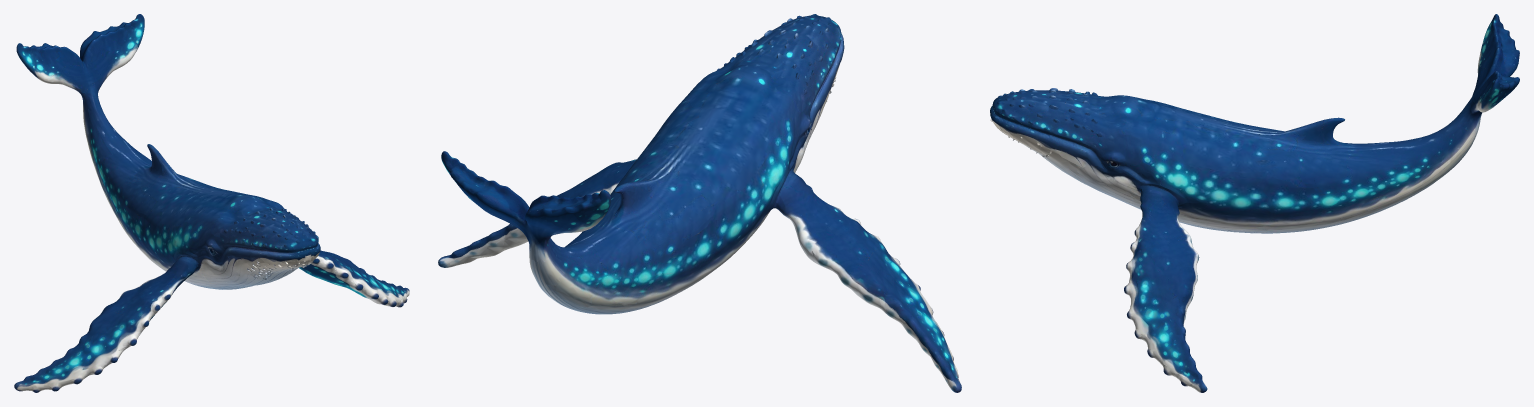
File: whale.glb
3 renders of one model, left to right at view 1: azimuth 30°, elevation 25°; view 2: azimuth 150°, elevation 25°; view 3: azimuth 270°, elevation 25°, orthographic. The views are drawn at different scales.
Size of the model in its own units: 1.81 by 0.9533 by 1.9.
Materials: 1 (1 with a texture image).
